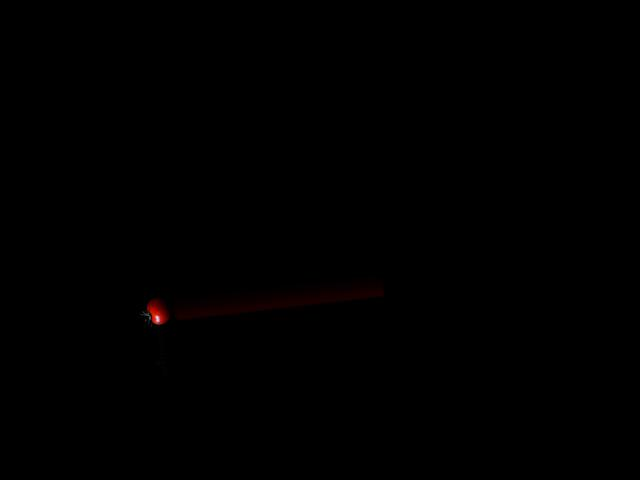tomato: (145, 296, 172, 326)
